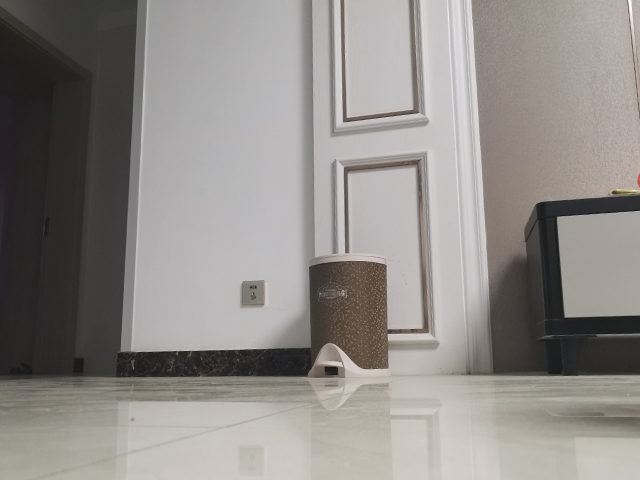cabinet: (524, 195, 640, 378)
trashcan: (307, 251, 392, 380)
